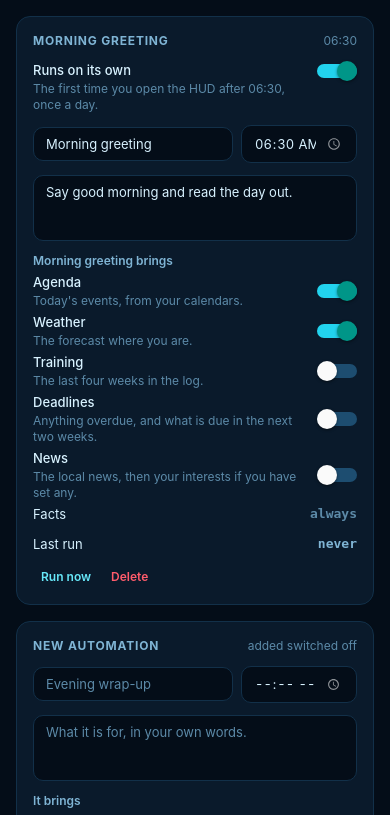
Test: asks before deleting one
The width and height of the screenshot is (390, 815).
Click the button with aria-label "Delete Morning greeting" at (130, 576), box x1=103 y1=565 x2=156 y2=588
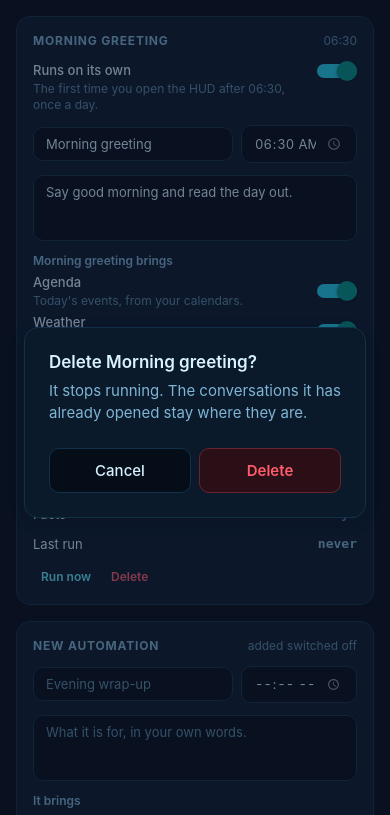
Expected: the text "Delete Morning greeting?" is shown, x1=49 y1=352 x2=257 y2=372
Click the text "Delete" at (270, 470), box x1=247 y1=460 x2=293 y2=480
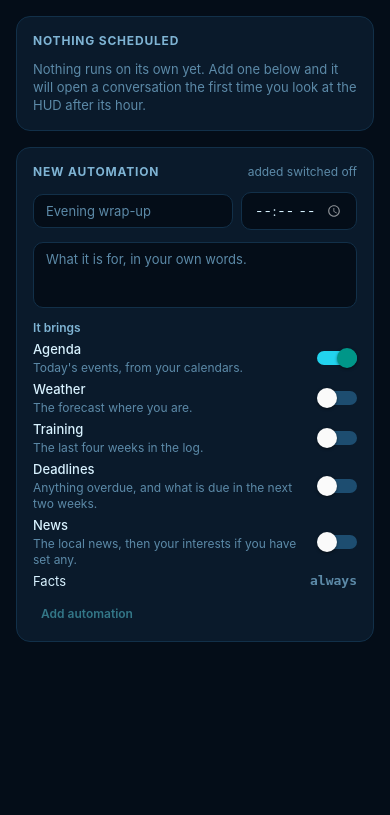
Expected: the element with test id "automation-1" is gone
